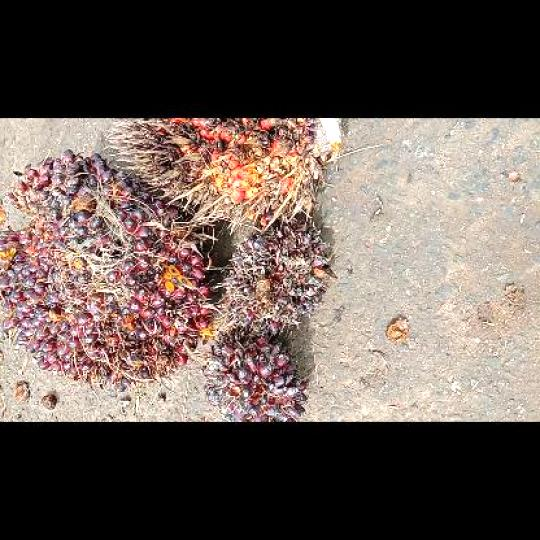masak: (1, 149, 218, 394)
terlalu masak: (100, 118, 347, 232)
